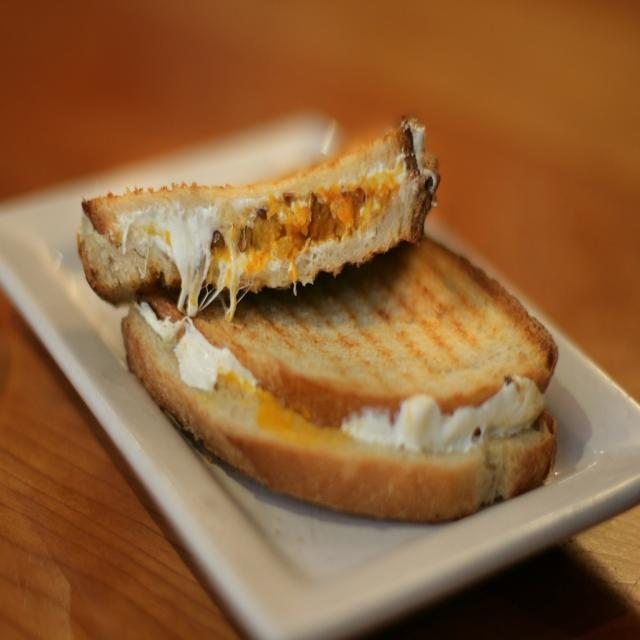Sandwich: (75, 116, 560, 521)
